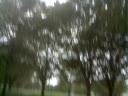window: (15, 3, 123, 96)
